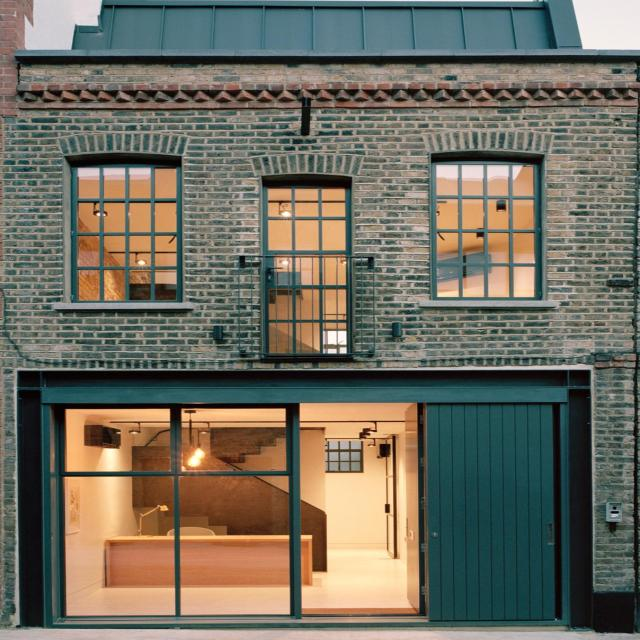door: (426, 403, 561, 624)
window: (53, 404, 418, 615), (73, 161, 184, 303), (433, 160, 544, 300), (263, 181, 352, 355)
